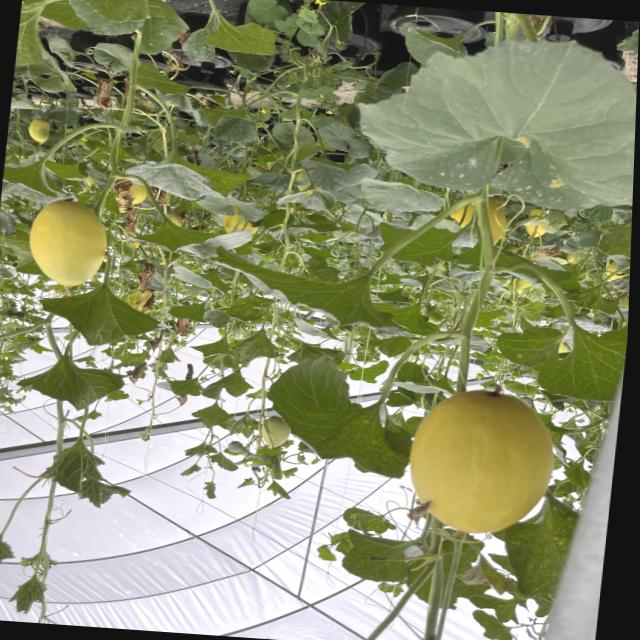CMV: (349, 32, 639, 209), (187, 106, 265, 142), (179, 24, 224, 62), (606, 21, 639, 57)
bacterial wilt: (138, 260, 157, 289), (126, 361, 150, 383), (93, 81, 112, 107)
downy mildew: (258, 351, 427, 480), (495, 498, 584, 604), (593, 216, 632, 259)
healthy: (209, 252, 428, 339), (491, 313, 628, 402), (36, 282, 161, 350), (120, 154, 256, 208), (14, 354, 127, 412), (325, 530, 426, 584), (454, 239, 554, 282), (375, 222, 466, 268), (150, 218, 250, 258), (0, 157, 74, 210), (357, 178, 446, 218), (63, 0, 149, 37), (209, 20, 288, 59), (14, 8, 58, 70), (298, 157, 354, 191), (471, 613, 516, 640), (561, 458, 595, 488)
